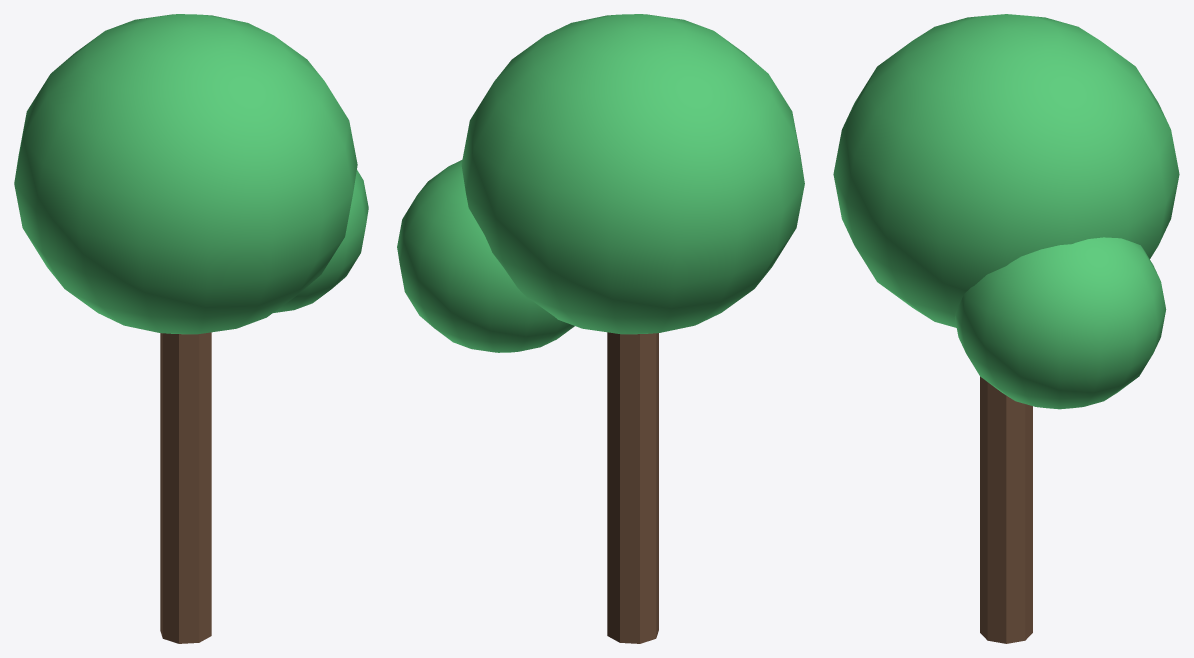
Rendered from flora_tree_round.glb.
3 renders of one model, left to right at view 1: azimuth 30°, elevation 25°; view 2: azimuth 150°, elevation 25°; view 3: azimuth 270°, elevation 25°, orthographic.
Visible parts, largest first — view 1: Crown, Trunk, Crown2; view 2: Crown, Crown2, Trunk; view 3: Crown, Crown2, Trunk.
Boxes of the visible parts, bbox=[...] form: Crown: bbox=[14, 14, 357, 334]; Trunk: bbox=[160, 332, 211, 643]; Crown2: bbox=[273, 170, 368, 312]; Crown: bbox=[461, 14, 804, 334]; Crown2: bbox=[397, 160, 574, 352]; Trunk: bbox=[607, 332, 658, 643]; Crown: bbox=[833, 14, 1179, 327]; Crown2: bbox=[955, 237, 1166, 409]; Trunk: bbox=[980, 376, 1032, 643].
Bounding box in the file's own units: 3 × 5 × 2.6.
